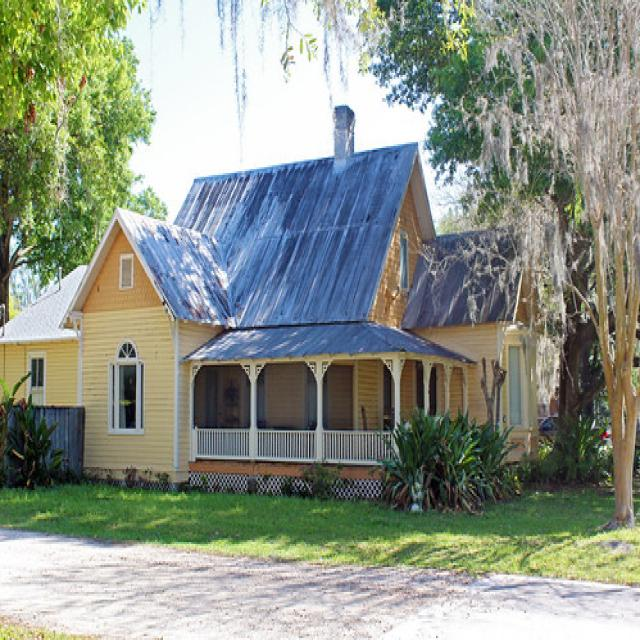building: (2, 114, 542, 512)
